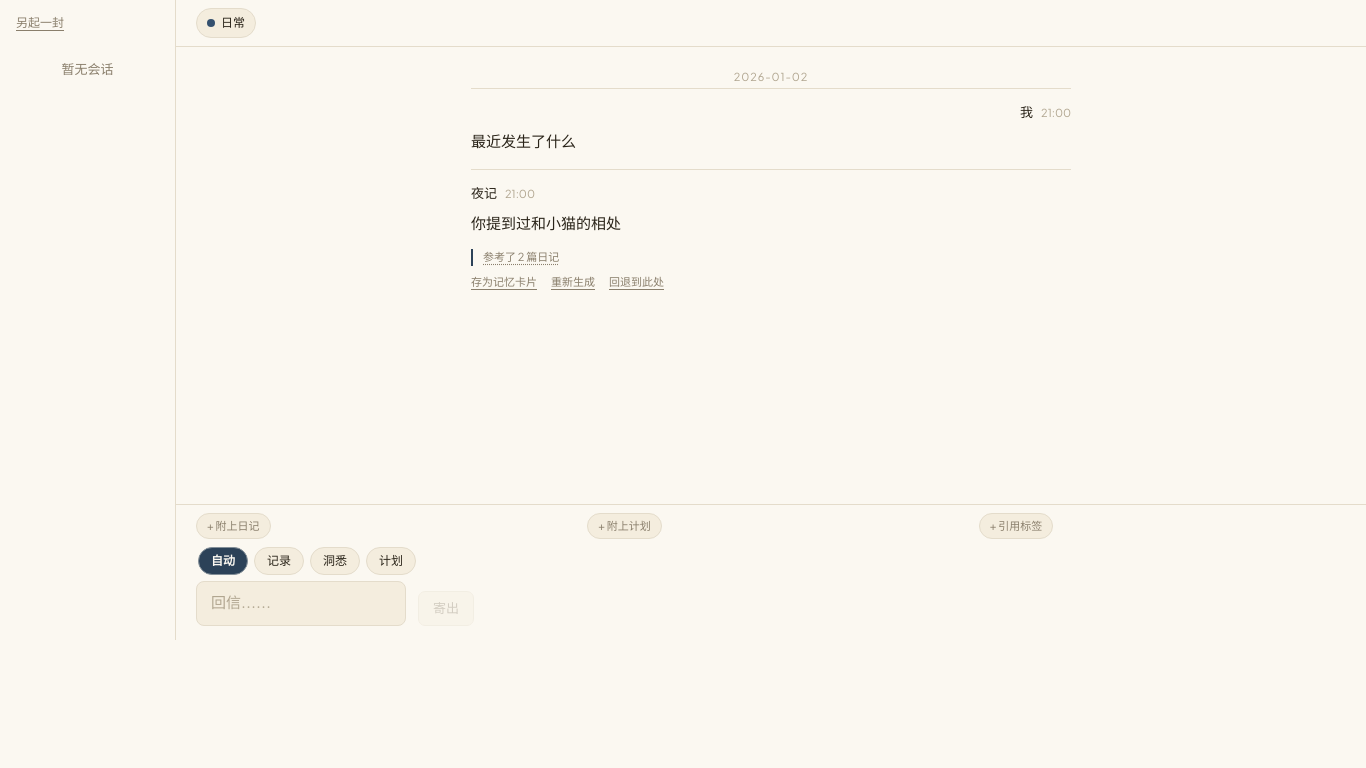
Scenario: ChatScene › shows a collapsed margin note for referenced diaries and expands it on click
The image size is (1366, 768).
Expected: the element with test id "letter-note" is shown, [471, 249, 1071, 266]
Expected: the text "白猫在楼道里" is not shown
Click the button "参考了 2 篇日记".
click(521, 257)  # box [483, 249, 559, 266]
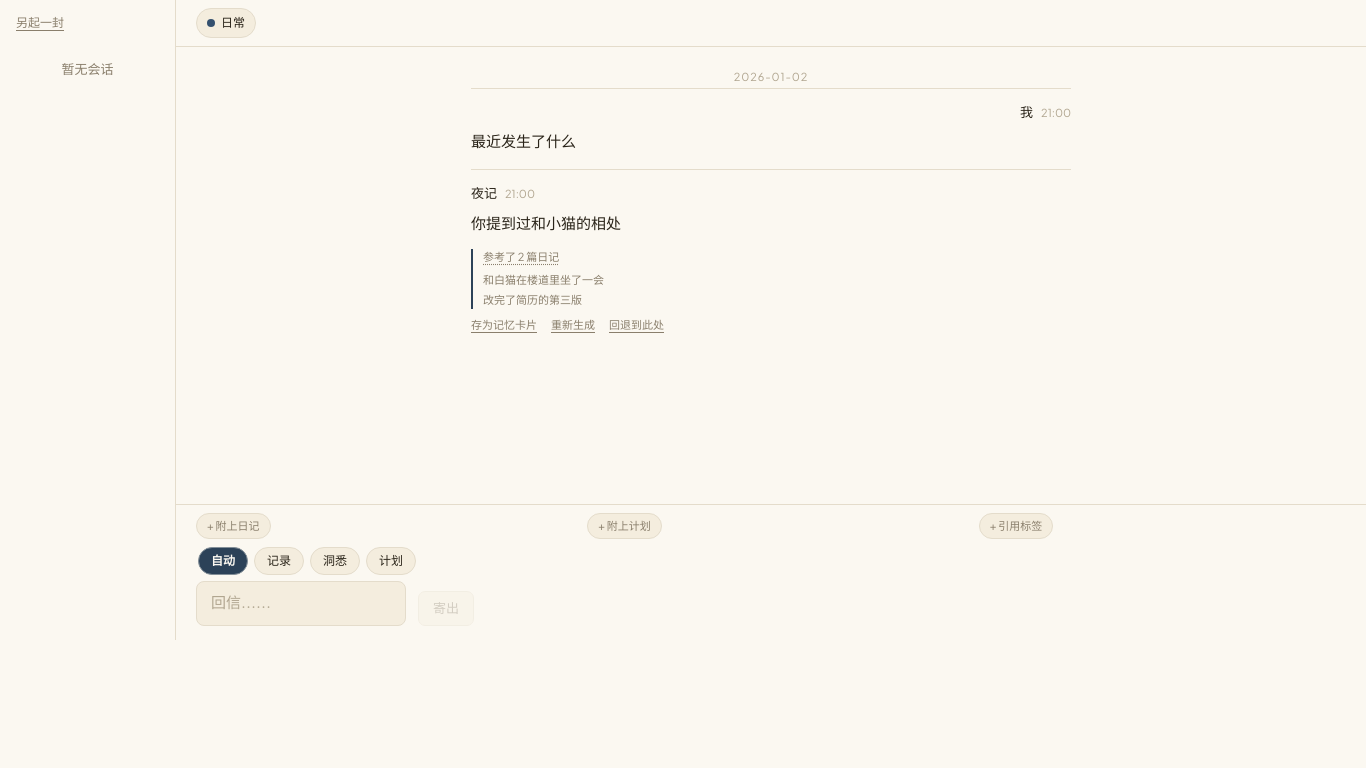
Now the number of list items with test id "letter-note-item" is 2, box [483, 272, 604, 286]; [483, 293, 582, 306]
Now the text "白猫在楼道里" is shown, box [483, 272, 604, 286]
Now the text "改完了简历" is shown, box [483, 293, 582, 306]
